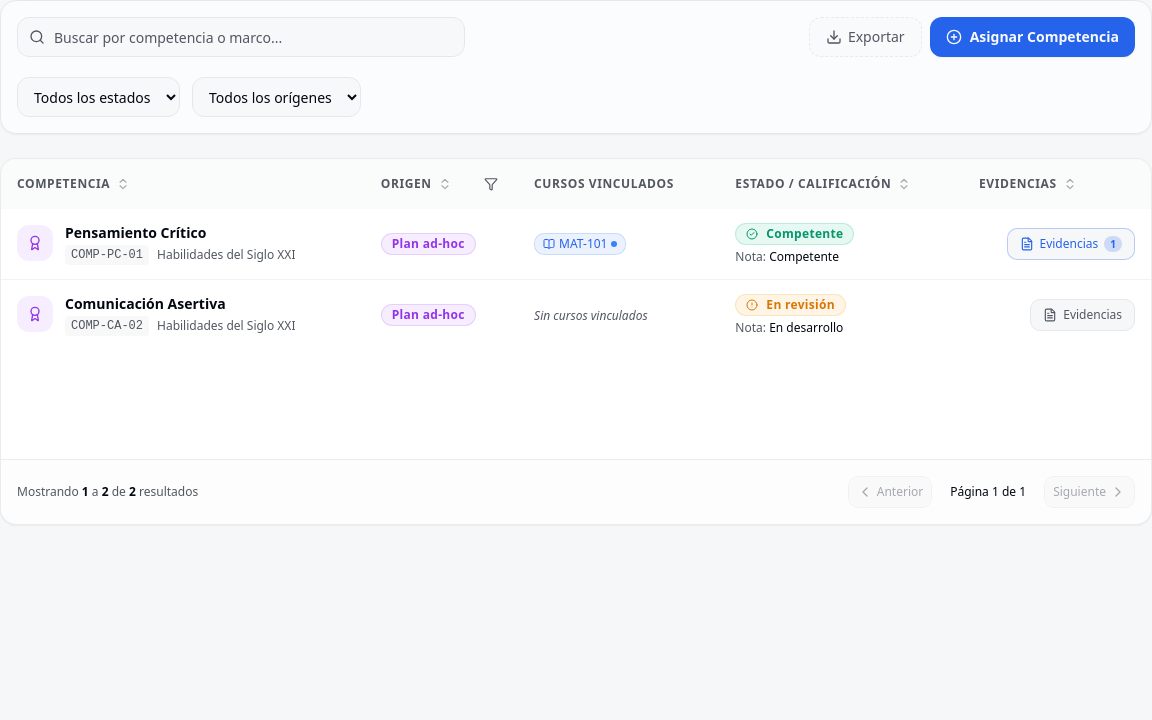
Scenario: Refactor Vista Detalle de Usuario › UserCompetenciesTab muestra botón Asignar Competencia y permite abrir el modal
The width and height of the screenshot is (1152, 720).
Click the button "Asignar Competencia" at [1032, 37], box [930, 17, 1135, 57]
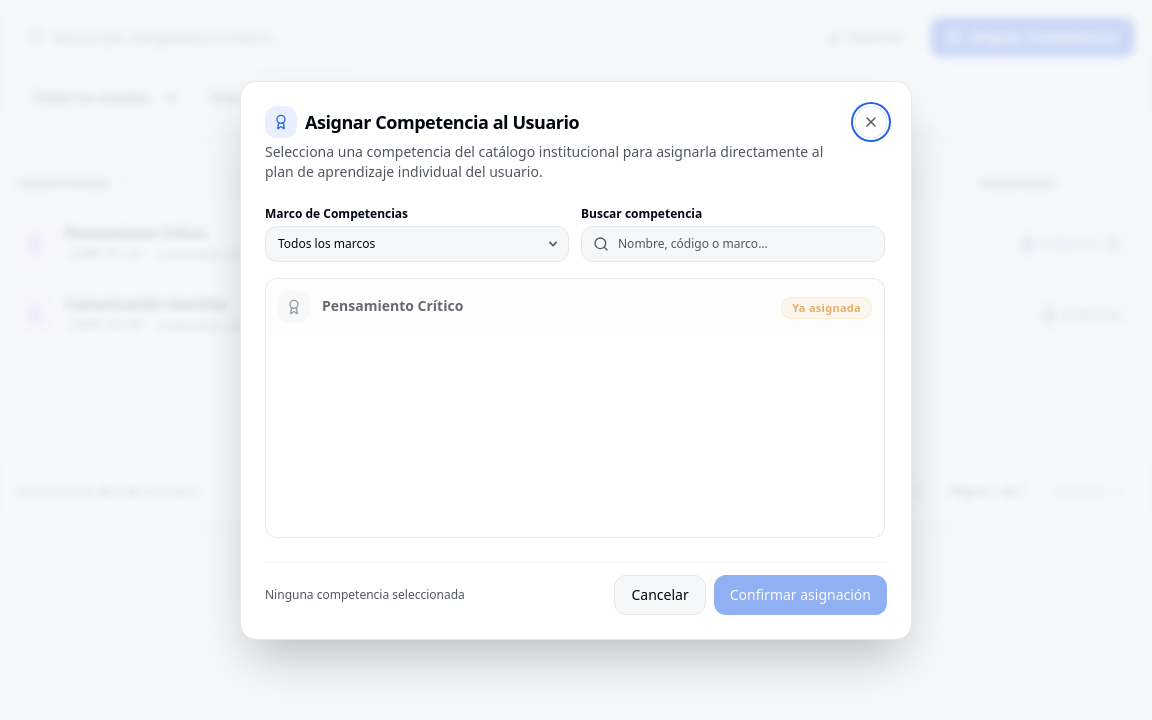
Expected: the text "Asignar Competencia al Usuario" is shown, [305, 108, 579, 136]
